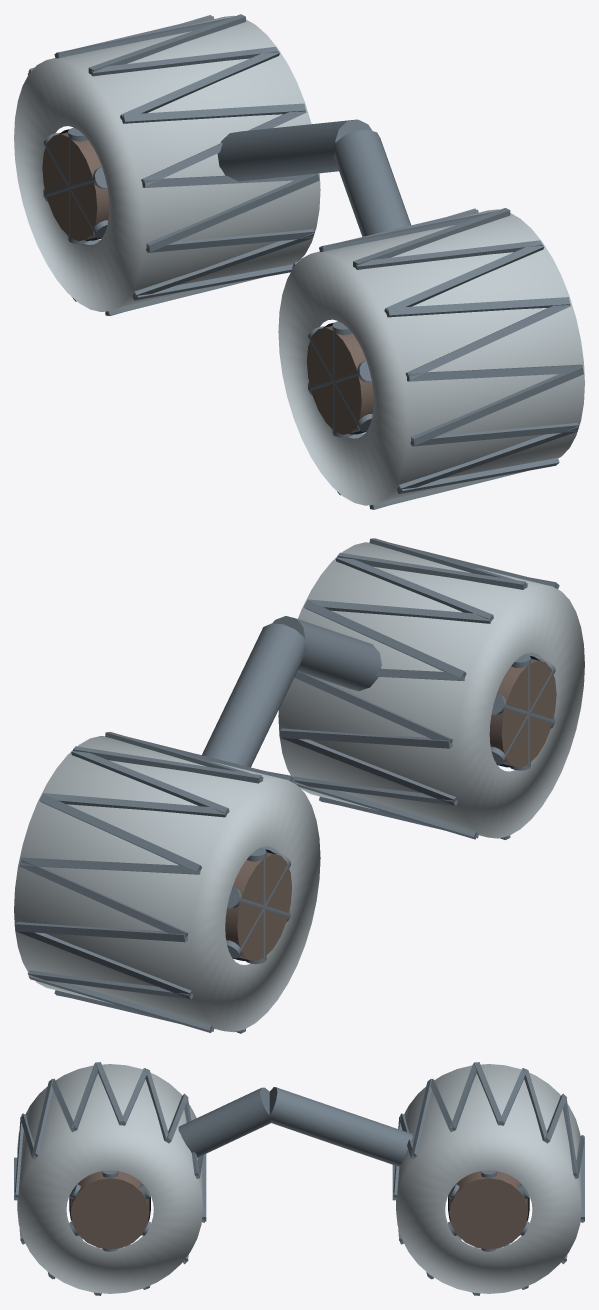
Rendered from curiosity_mobility.rocker_left.bogie.glb.
The picture shows the model from 3 angles, top to bottom: view 1: azimuth 30°, elevation 25°; view 2: azimuth 150°, elevation 25°; view 3: azimuth 270°, elevation 25°; orthographic projection. The views are drawn at different scales.
Visible parts, largest first — view 1: curiosity_mobility.rocker_left.bogie.axle_middle.wheel_middl (×3), curiosity_mobility.rocker_left.bogie.steer_rear.wheel_rear.r (×3), curiosity_mobility.rocker_left.bogie.mesh_Machined_steel; view 2: curiosity_mobility.rocker_left.bogie.steer_rear.wheel_rear.r (×3), curiosity_mobility.rocker_left.bogie.axle_middle.wheel_middl (×3), curiosity_mobility.rocker_left.bogie.mesh_Machined_steel; view 3: curiosity_mobility.rocker_left.bogie.steer_rear.wheel_rear.r (×3), curiosity_mobility.rocker_left.bogie.axle_middle.wheel_middl (×3), curiosity_mobility.rocker_left.bogie.mesh_Machined_steel.
Part boxes in pixels (<box>): curiosity_mobility.rocker_left.bogie.axle_middle.wheel_middl (×3): <box>278,208,584,509</box>; curiosity_mobility.rocker_left.bogie.steer_rear.wheel_rear.r (×3): <box>14,14,320,315</box>; curiosity_mobility.rocker_left.bogie.mesh_Machined_steel: <box>217,119,410,236</box>; curiosity_mobility.rocker_left.bogie.steer_rear.wheel_rear.r (×3): <box>14,732,320,1033</box>; curiosity_mobility.rocker_left.bogie.axle_middle.wheel_middl (×3): <box>278,538,584,839</box>; curiosity_mobility.rocker_left.bogie.mesh_Machined_steel: <box>202,616,381,767</box>; curiosity_mobility.rocker_left.bogie.steer_rear.wheel_rear.r (×3): <box>392,1062,584,1295</box>; curiosity_mobility.rocker_left.bogie.axle_middle.wheel_middl (×3): <box>14,1062,206,1295</box>; curiosity_mobility.rocker_left.bogie.mesh_Machined_steel: <box>178,1087,412,1166</box>.
Size of the model in its own units: 0.44 by 0.5644 by 1.54.
